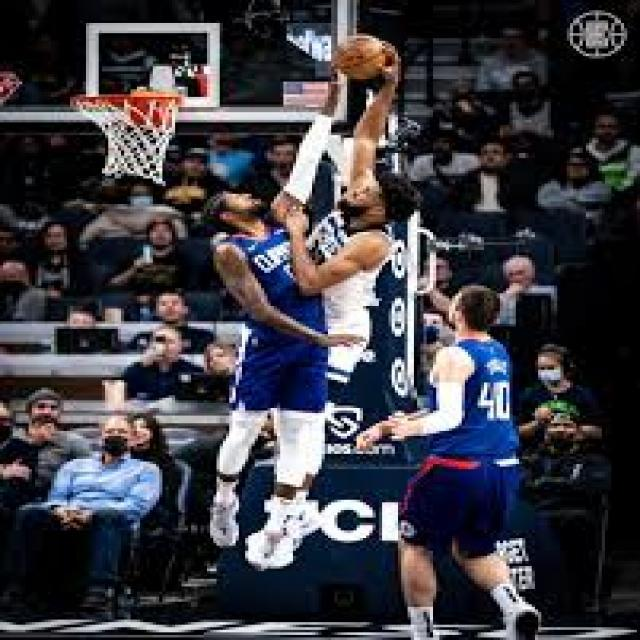rim: (338, 36, 388, 76)
